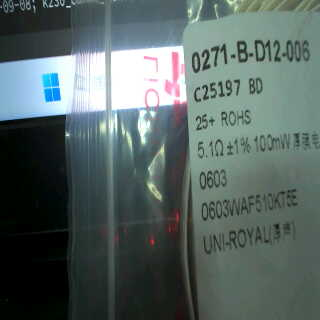5.1R: (196, 137, 226, 163)
